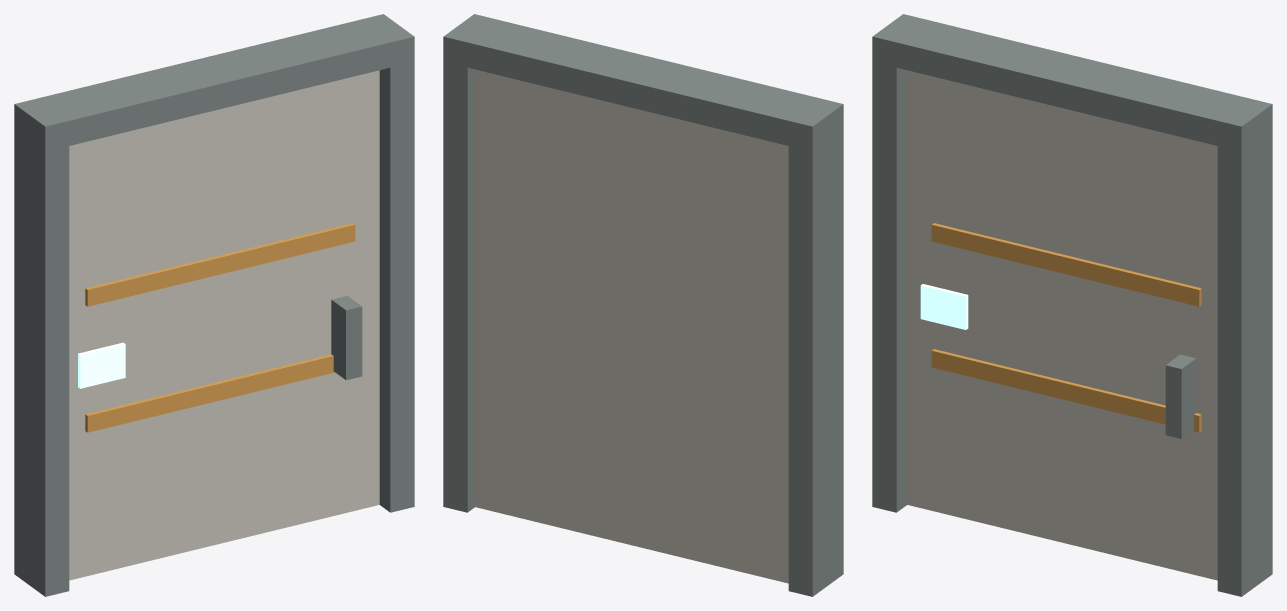
The model's file is prop_bulkhead_door.glb.
3 views of the same model, side by side, from view 1: azimuth 30°, elevation 25°; view 2: azimuth 150°, elevation 25°; view 3: azimuth 330°, elevation 25° (orthographic).
Parts seen in each view (by area): view 1: prop_bulkhead_door; view 2: prop_bulkhead_door; view 3: prop_bulkhead_door.
Part boxes in pixels (<box>): prop_bulkhead_door: <box>14,14,414,596</box>; prop_bulkhead_door: <box>443,14,843,596</box>; prop_bulkhead_door: <box>872,14,1272,596</box>.
Bounding box in the file's own units: 2.76 × 3.36 × 0.45.
